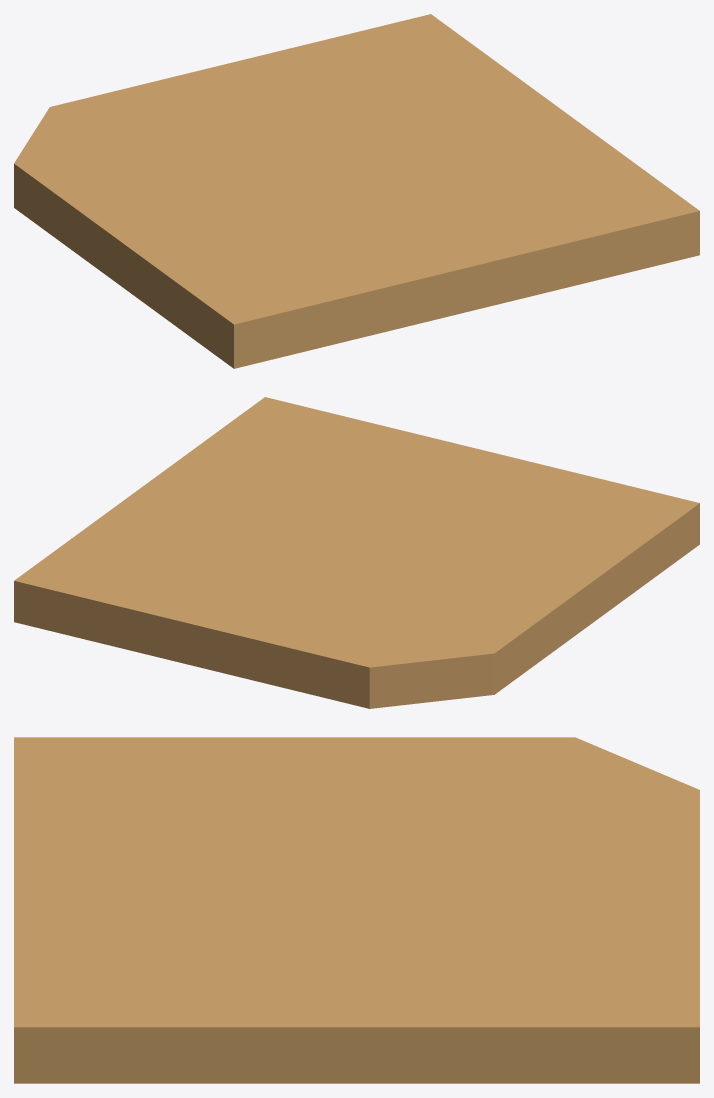
Rendered from floorCorner.glb.
3 views of the same model, one above another, from view 1: azimuth 30°, elevation 25°; view 2: azimuth 150°, elevation 25°; view 3: azimuth 270°, elevation 25° (orthographic). The views are drawn at different scales.
Visible parts, largest first — view 1: floorCorner; view 2: floorCorner; view 3: floorCorner.
Part boxes in pixels (bbox=[...]): floorCorner: bbox=[14, 14, 699, 368]; floorCorner: bbox=[14, 397, 699, 708]; floorCorner: bbox=[14, 737, 699, 1083].
Bounding box in the file's own units: 5.5 × 0.5 × 5.5.
